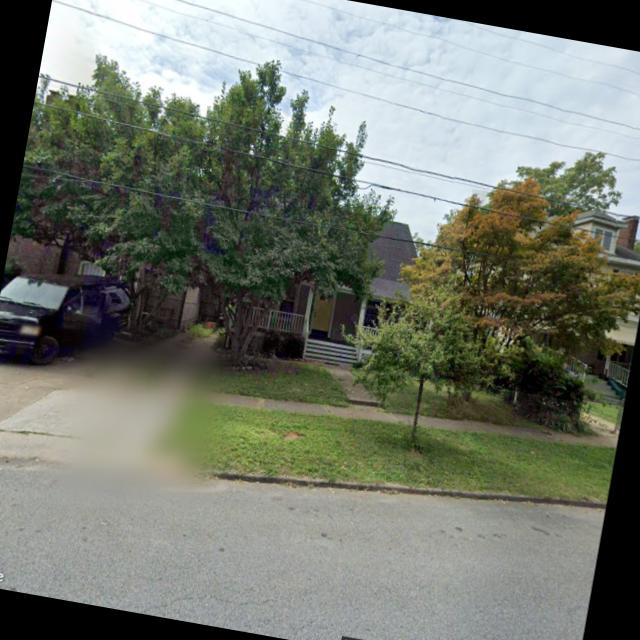House: (438, 188, 640, 410), (222, 194, 438, 385)
